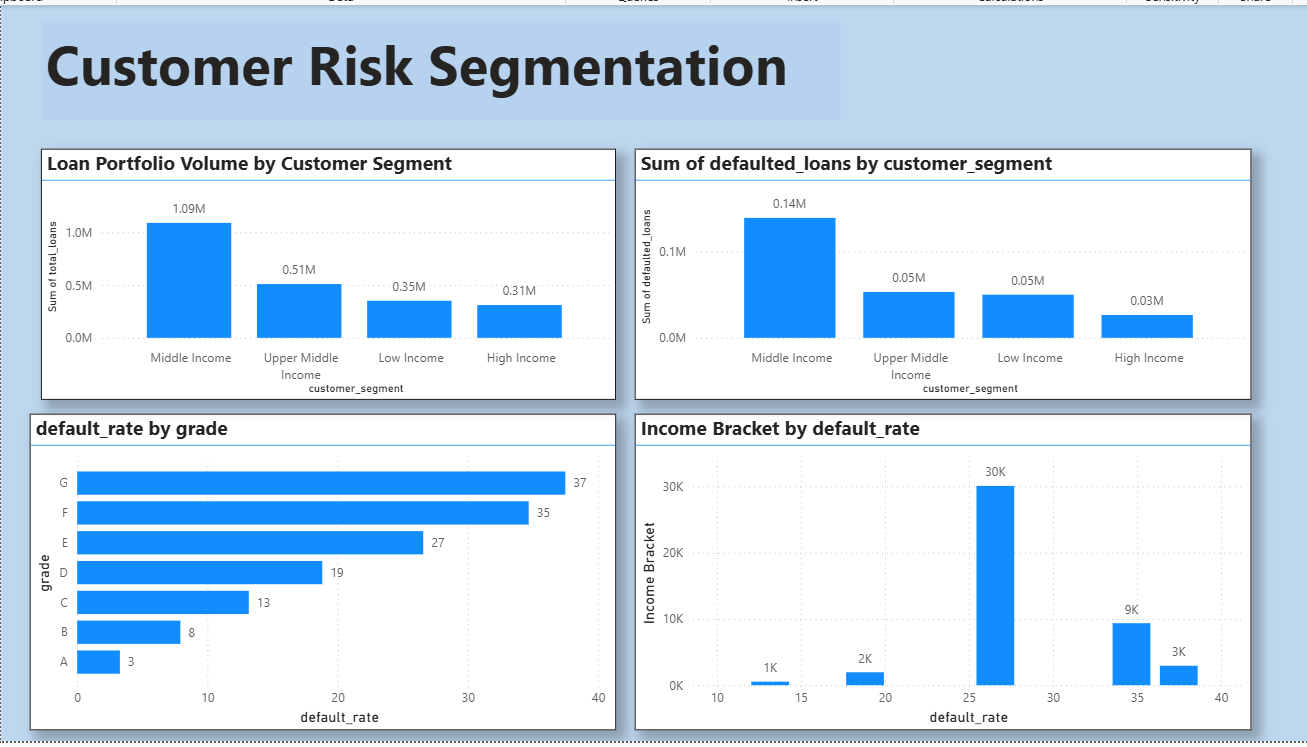

What the dashboard file says about the page in this screenshot:
{"tool":"powerbi","page":{"name":"Page 2","canvas":[1280,720],"ordinal":1},"visuals":[{"type":"clusteredBarChart","fields":{"Category":["grade_analysis.grade"],"Y":["Sum(grade_analysis.default_rate)"]},"box":[28.1,399.9,573.5,309.4],"z":0},{"type":"clusteredColumnChart","fields":{"Category":["grade_analysis.default_rate"],"Y":["CountNonNull(manuall_review.Income Bracket)"]},"box":[620,399.9,602.9,309.4],"z":1000},{"type":"columnChart","title":"Loan Portfolio Volume by Customer Segment","fields":{"Category":["seg_loa_defa_rate.customer_segment"],"Y":["Sum(seg_loa_defa_rate.total_loans)"]},"box":[39.1,140.6,562.5,245.8],"z":2000},{"type":"columnChart","fields":{"Y":["Sum(seg_loa_defa_rate.defaulted_loans)"],"Category":["seg_loa_defa_rate.customer_segment"]},"box":[620,140.6,602.9,245.8],"z":3000},{"type":"textbox","box":[39.1,15.9,782.6,96.6],"z":4000}]}

Visuals, with their boxes in screenshot pixels (x1, y1, x2, y2):
clusteredBarChart - grade_analysis.grade x Sum(grade_analysis.default_rate): rect(39, 413, 616, 724)
clusteredColumnChart - grade_analysis.default_rate x CountNonNull(manuall_review.Income Bracket): rect(635, 413, 1242, 724)
"Loan Portfolio Volume by Customer Segment" columnChart: rect(50, 152, 616, 399)
columnChart - Sum(seg_loa_defa_rate.defaulted_loans) x seg_loa_defa_rate.customer_segment: rect(635, 152, 1242, 399)
textbox: rect(50, 26, 838, 123)
